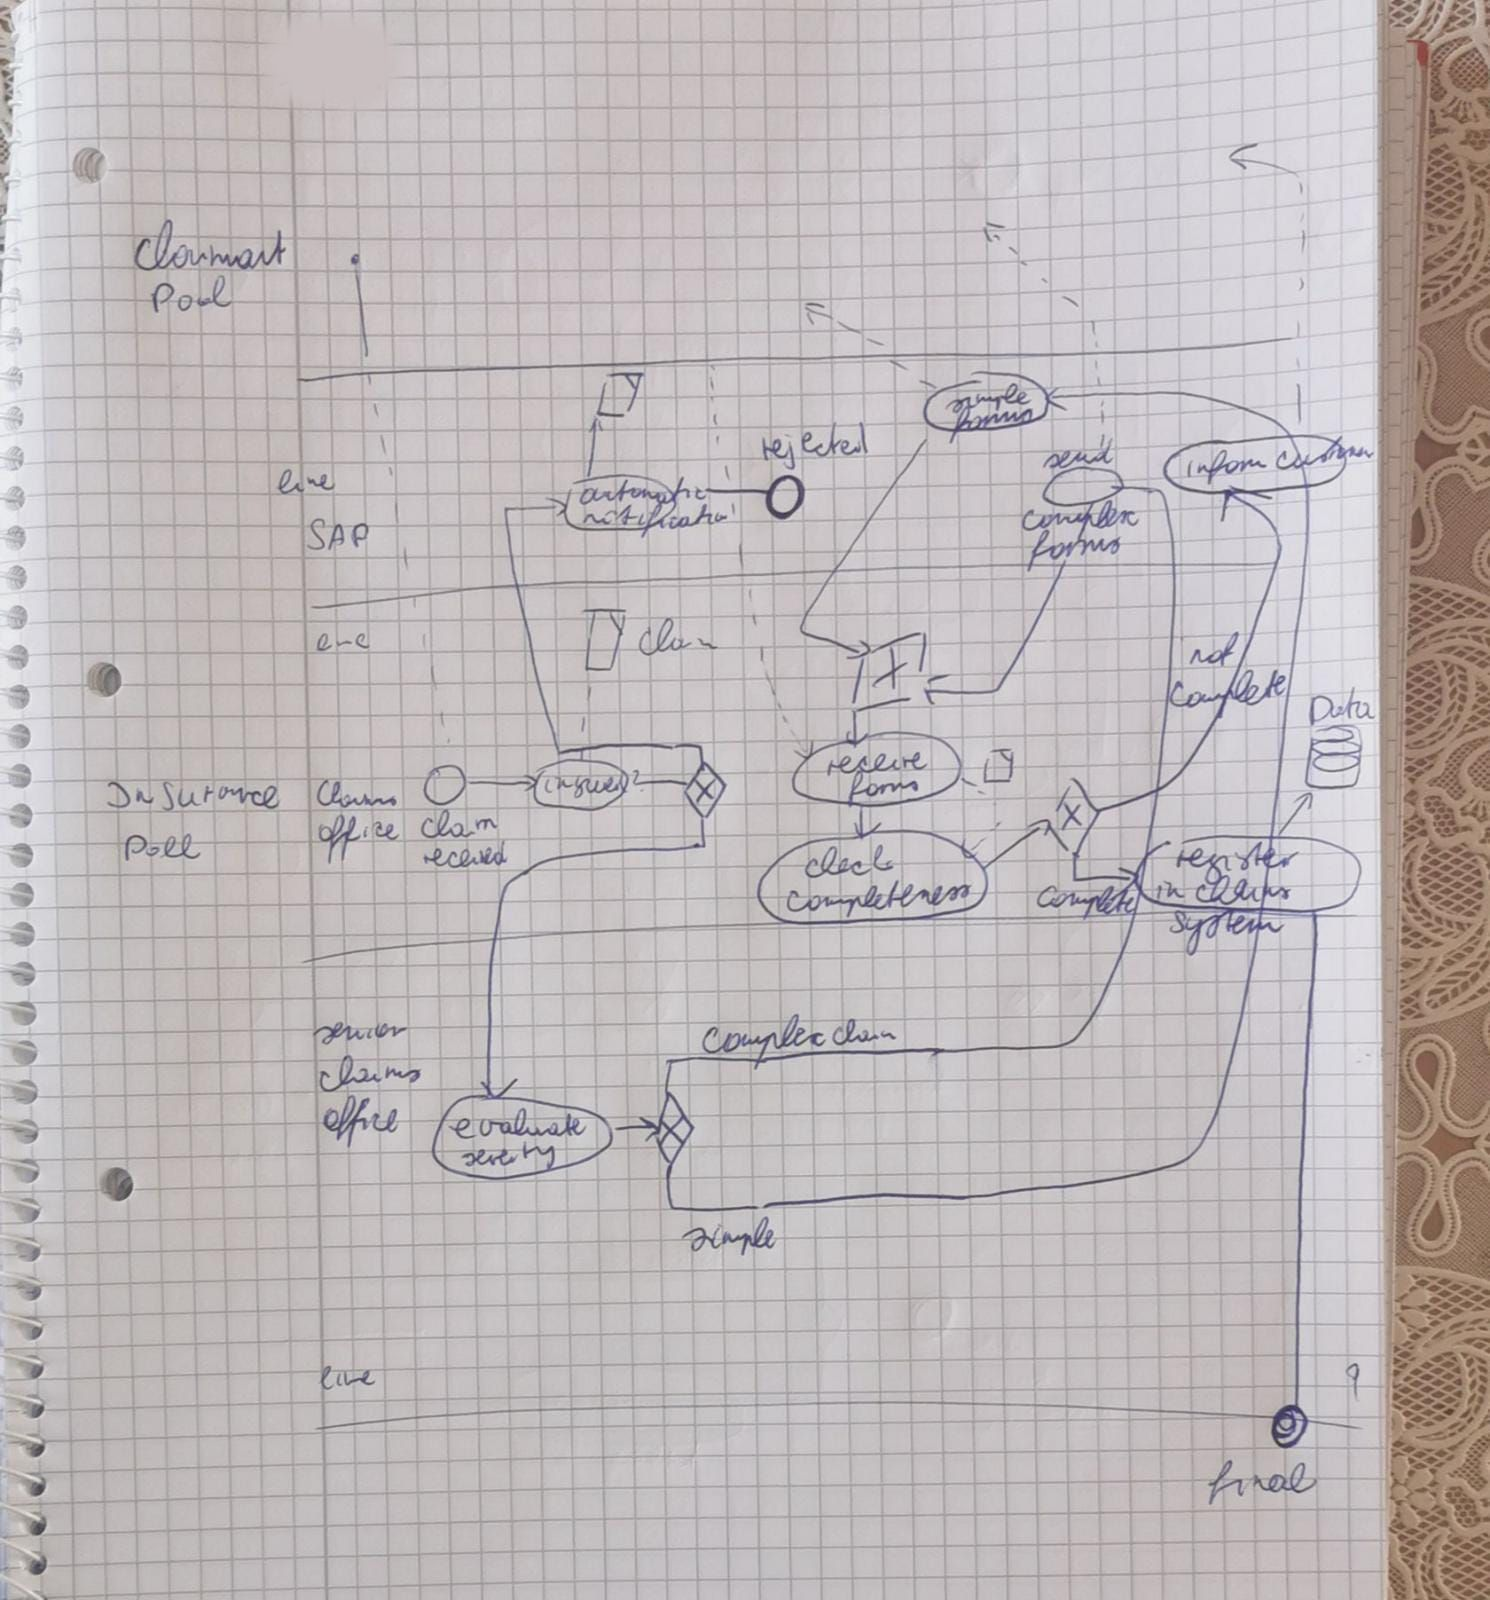Claim: (314, 771, 403, 813)
Complete: (1164, 666, 1290, 720)
Completeness: (786, 876, 979, 920)
Complex: (702, 1016, 822, 1062)
Data: (1311, 687, 1372, 728)
Insurance: (105, 776, 279, 813)
Poll: (129, 830, 202, 864)
Pool: (151, 277, 232, 319)
SAP: (307, 517, 368, 554)
System: (1167, 910, 1287, 943)
automatic: (573, 476, 710, 508)
chain: (825, 1013, 896, 1054)
check: (802, 844, 896, 880)
claim: (629, 620, 720, 661), (415, 809, 504, 850)
claimant: (125, 220, 294, 280)
claims: (302, 1058, 427, 1096), (1188, 875, 1294, 911)
complete: (1032, 882, 1140, 920)
complex: (1008, 500, 1144, 536)
confirm: (1274, 433, 1377, 477)
evaluate: (452, 1109, 588, 1144)
final: (1203, 1459, 1322, 1506)
forms: (1029, 529, 1125, 567), (948, 403, 1040, 435), (849, 774, 924, 803)
in: (1153, 880, 1183, 904)
inform: (1182, 442, 1272, 486)
insured?: (536, 764, 643, 799)
line: (314, 1355, 399, 1405), (274, 466, 333, 501), (316, 629, 372, 655)
not: (1190, 634, 1244, 671)
notification: (578, 505, 730, 531)
office: (309, 813, 408, 857), (318, 1097, 406, 1139)
receive: (821, 748, 934, 781)
received: (416, 843, 511, 871)
register: (1167, 838, 1298, 876)
rejected: (752, 426, 870, 469)
send: (1043, 440, 1116, 476)
senior: (307, 1015, 424, 1053)
severity: (459, 1142, 557, 1172)
simple: (689, 1218, 781, 1258), (944, 377, 1032, 416)
